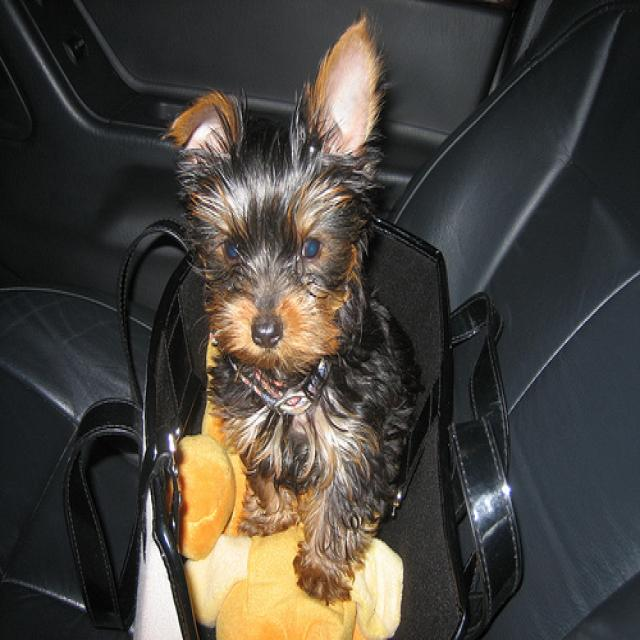dog-yorkshire_terrier: (168, 9, 415, 618)
